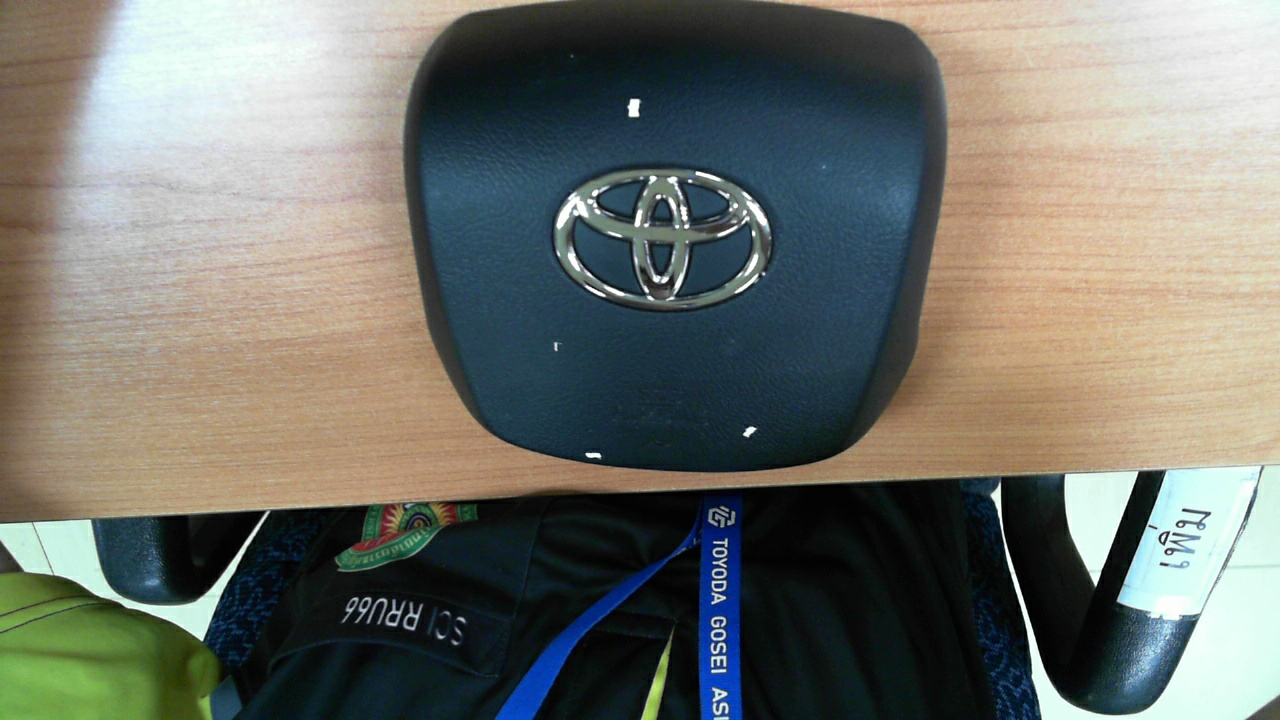Airbag: (402, 0, 946, 472)
Mark: (628, 98, 640, 117), (742, 426, 757, 438), (553, 340, 563, 353), (585, 452, 602, 459), (570, 54, 575, 58), (822, 166, 826, 168)
